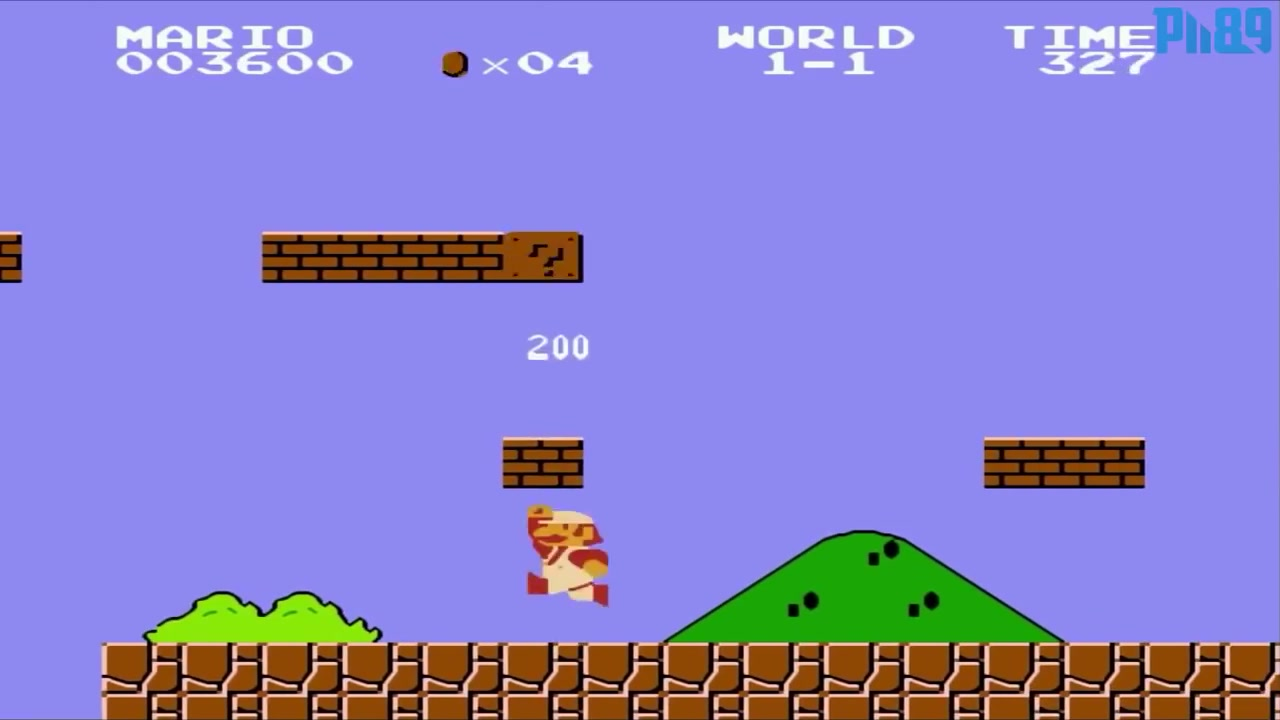mario: (509, 500, 610, 610)
